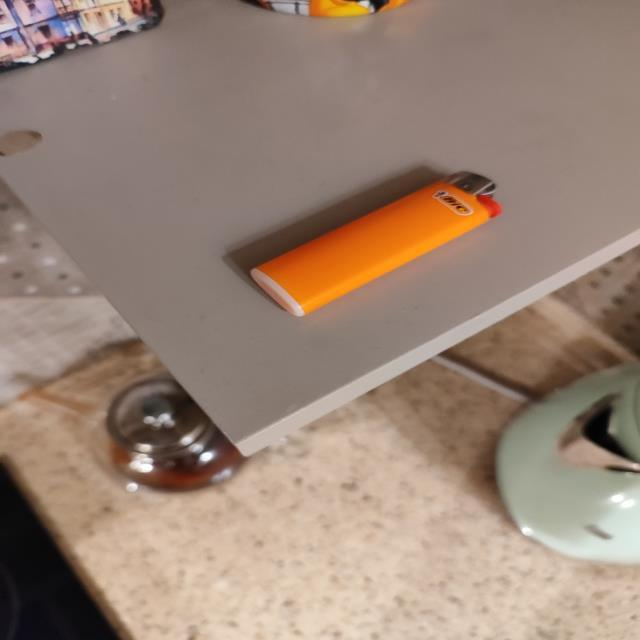lighter: (251, 173, 500, 315)
